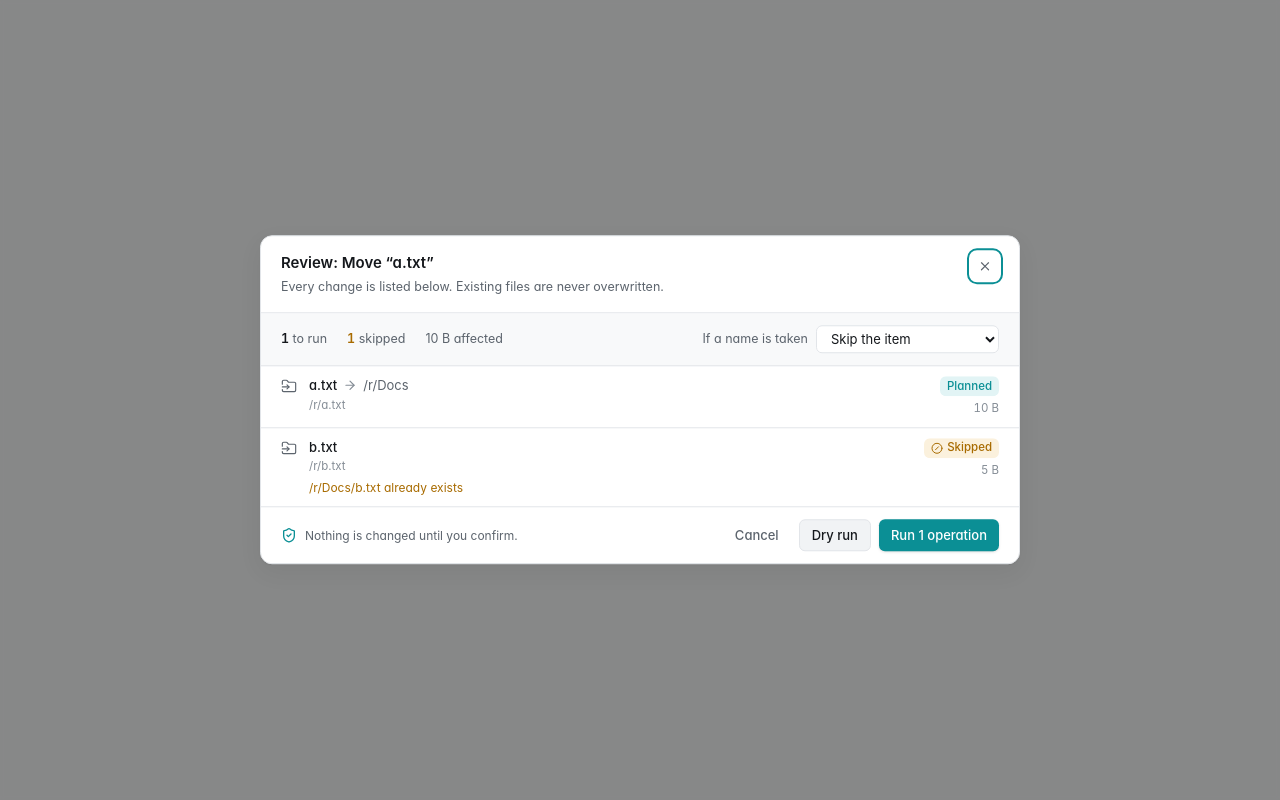
Test case: OperationPreview › executes the planned batch on confirm and offers undo
Check: the text "a.txt" is shown, box [309,376,337,395]
Click the button "Run 1 operation" at (939, 536), box [879,520,999,552]
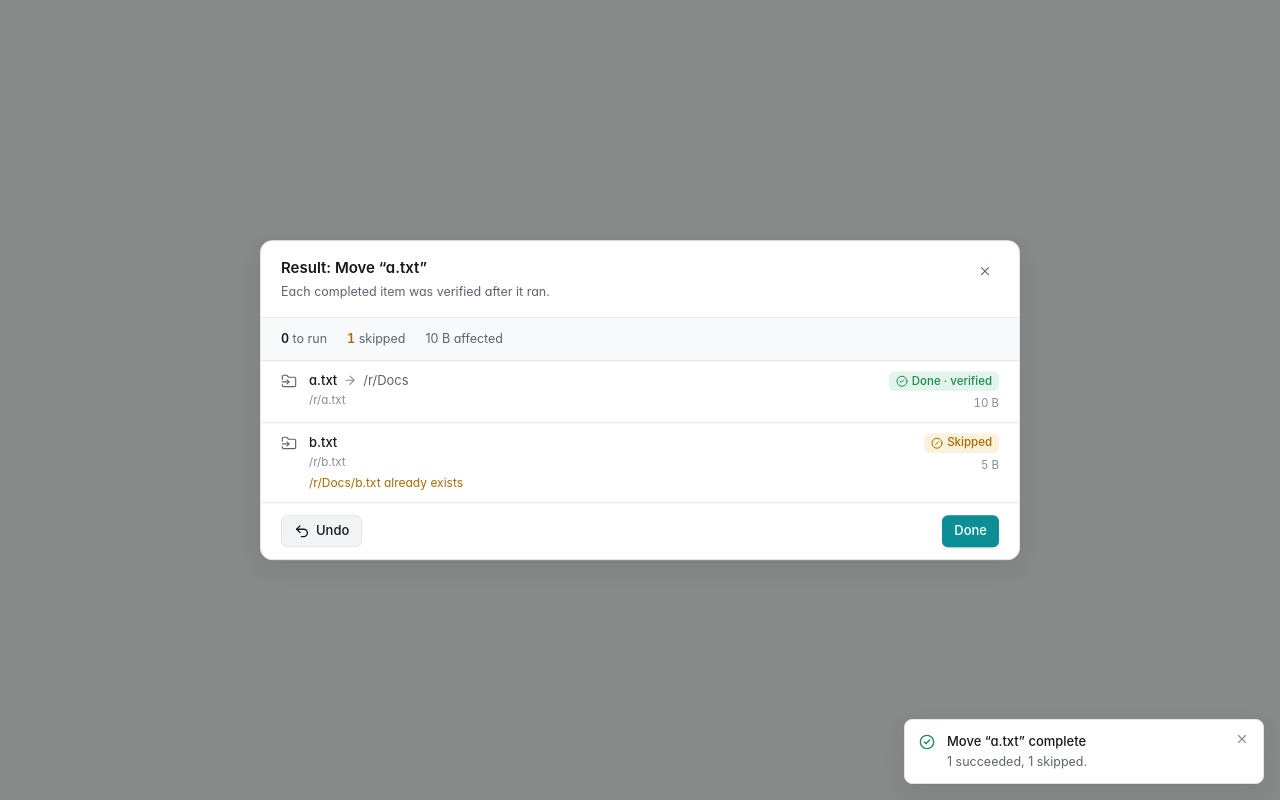
Check: the text "Done · verified" is shown, box [889,371,999,391]
Check: the button "Undo" is shown, box [281,515,362,547]
